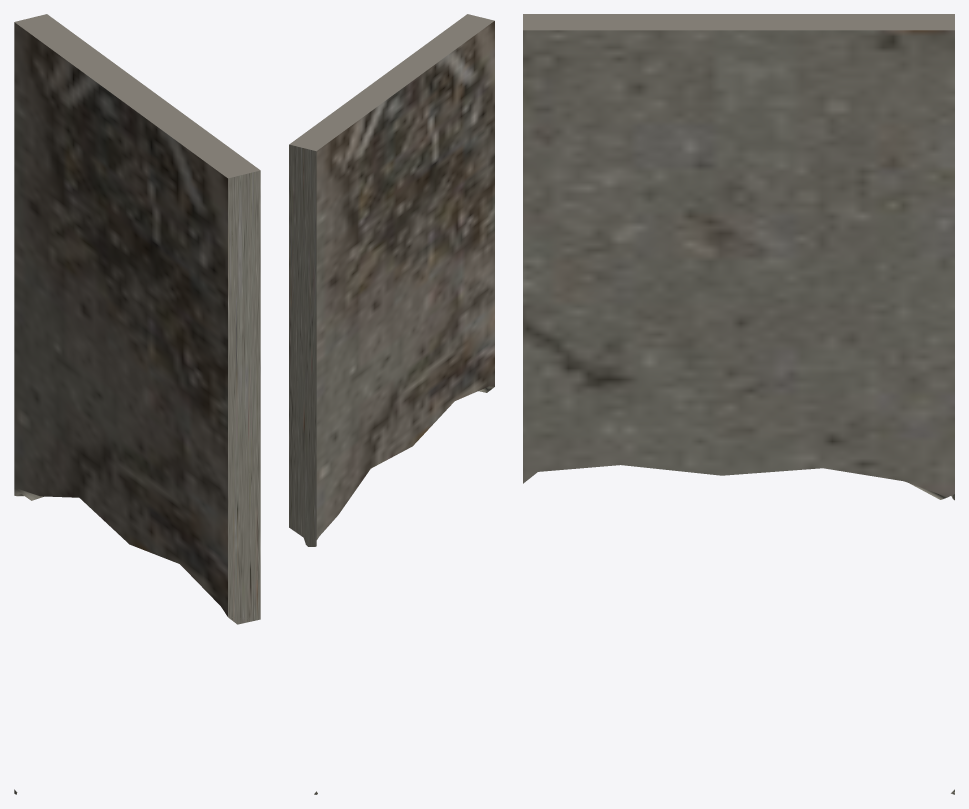
The model's file is block_wall_cross_bottom.fbx.
The picture shows the model from 3 angles, left to right: view 1: azimuth 30°, elevation 25°; view 2: azimuth 150°, elevation 25°; view 3: azimuth 270°, elevation 25°; orthographic projection. The views are drawn at different scales.
Visible parts, largest first — view 1: Cube.002; view 2: Cube.002; view 3: Cube.002.
Part boxes in pixels (left/top/right/bottom): Cube.002: left=14, top=14, right=260, bottom=794; Cube.002: left=289, top=14, right=494, bottom=794; Cube.002: left=523, top=14, right=954, bottom=794.
Bounding box in the file's own units: 35.45 × 796 × 400.
